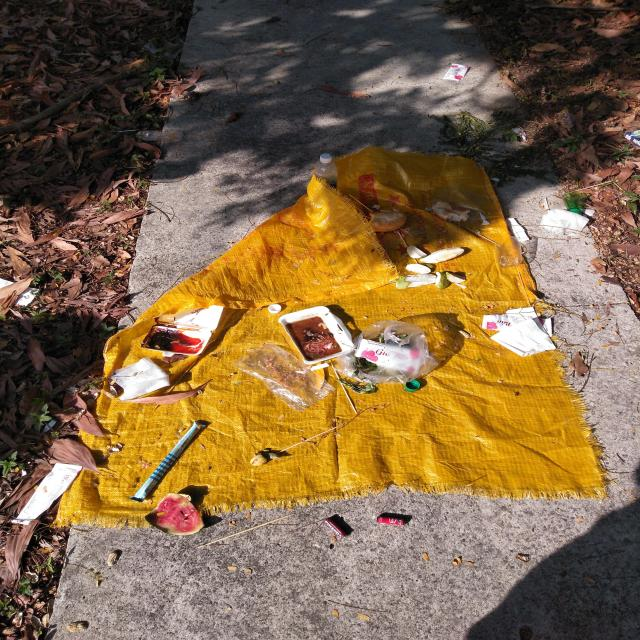litter: (129, 420, 206, 502), (10, 463, 84, 524), (394, 241, 474, 294), (145, 492, 207, 537), (110, 357, 169, 402), (133, 130, 184, 143), (324, 517, 347, 540), (140, 41, 160, 54), (403, 380, 423, 392), (267, 304, 290, 314), (319, 153, 334, 163)
